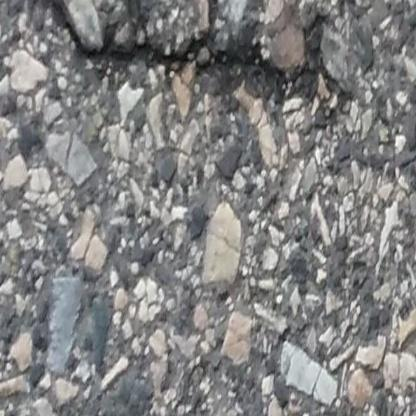Cracks: (23, 0, 338, 105)
